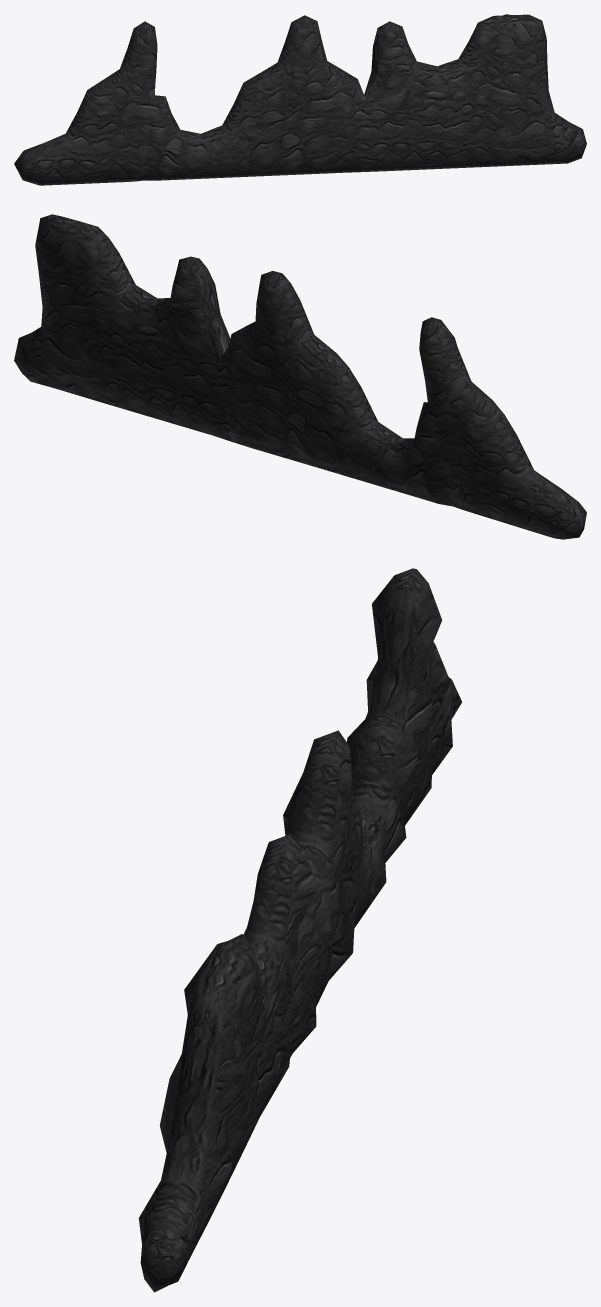
File: BrickWallStraight13Shape.dae
3 renders of one model, top to bottom at view 1: azimuth 30°, elevation 25°; view 2: azimuth 150°, elevation 25°; view 3: azimuth 270°, elevation 25°, orthographic. The views are drawn at different scales.
Visible parts, largest first — view 1: BrickWallStraight13; view 2: BrickWallStraight13; view 3: BrickWallStraight13.
Boxes of the visible parts, x1,y1,x2,y2 form: BrickWallStraight13: (14, 14, 586, 185); BrickWallStraight13: (14, 214, 586, 539); BrickWallStraight13: (138, 568, 461, 1292).
Bounding box in the file's own units: 39.67 × 13.92 × 11.11.
